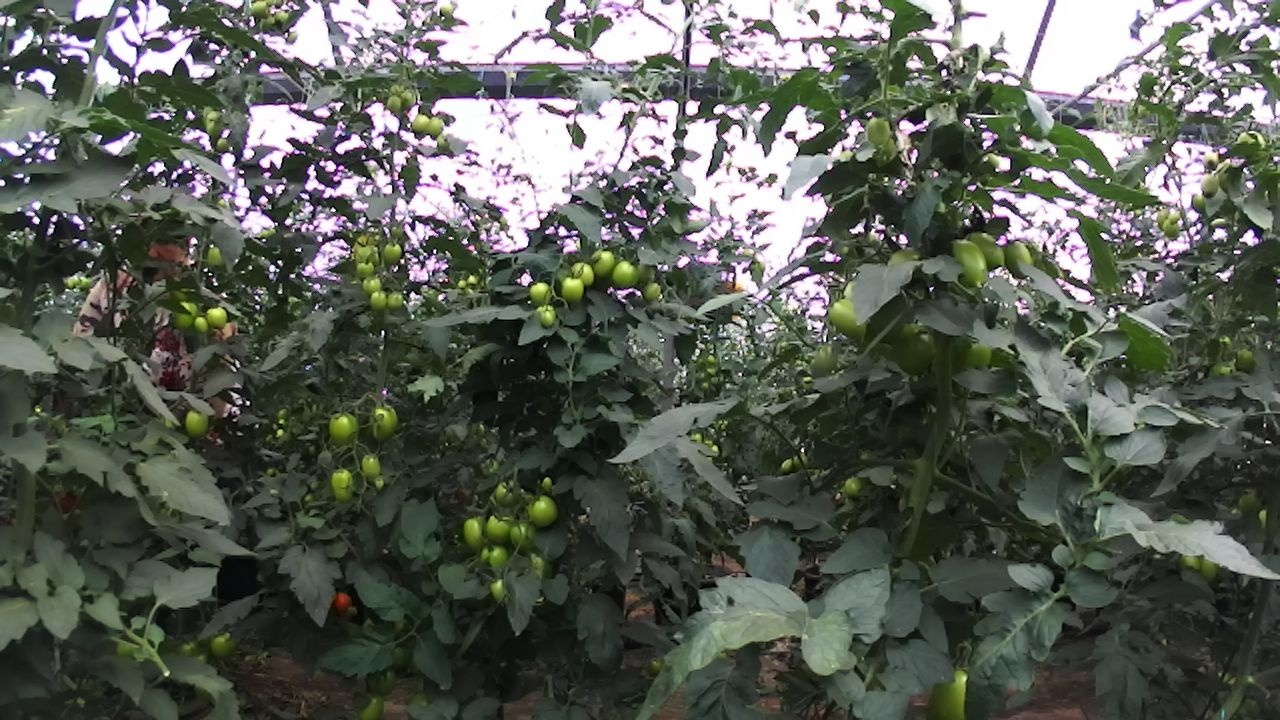tomato: (920, 658, 985, 720), (943, 231, 998, 295), (822, 294, 878, 344), (888, 327, 939, 380), (960, 224, 1012, 273), (807, 339, 849, 388), (998, 237, 1038, 284), (323, 406, 363, 449), (368, 400, 406, 445), (325, 462, 360, 509), (458, 511, 495, 553), (859, 113, 900, 150), (608, 254, 644, 293), (525, 493, 562, 530), (483, 511, 520, 547), (505, 518, 543, 553), (179, 406, 214, 441), (586, 242, 617, 281), (206, 631, 241, 664), (354, 687, 389, 720), (489, 477, 525, 509), (556, 271, 588, 306), (476, 542, 513, 572), (330, 584, 359, 622), (200, 301, 234, 333), (169, 300, 201, 333), (568, 257, 599, 291), (525, 278, 557, 308), (638, 276, 668, 308), (840, 471, 870, 503), (1197, 169, 1223, 203), (358, 451, 384, 483), (531, 302, 561, 328), (366, 285, 391, 316), (354, 242, 384, 266), (352, 257, 380, 282), (380, 239, 404, 268), (359, 272, 386, 297), (1158, 217, 1184, 242), (408, 111, 432, 135), (381, 93, 407, 115), (423, 114, 445, 139), (189, 313, 212, 336), (385, 287, 407, 310)
